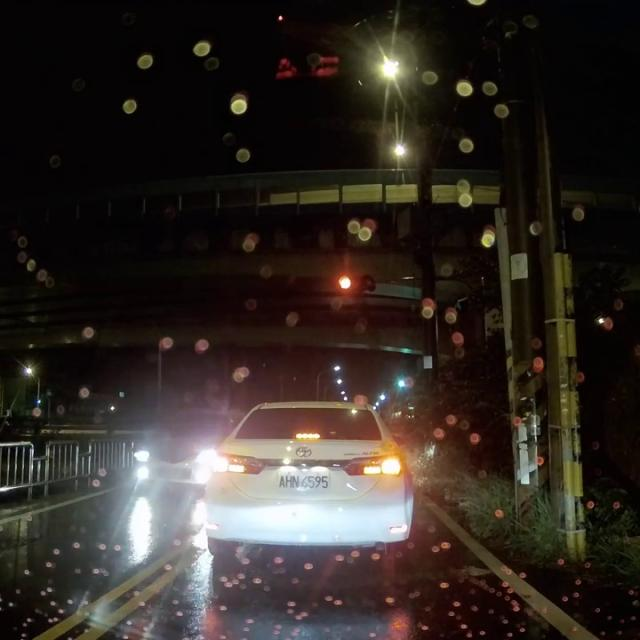Car: (203, 397, 412, 558), (127, 419, 220, 485)
